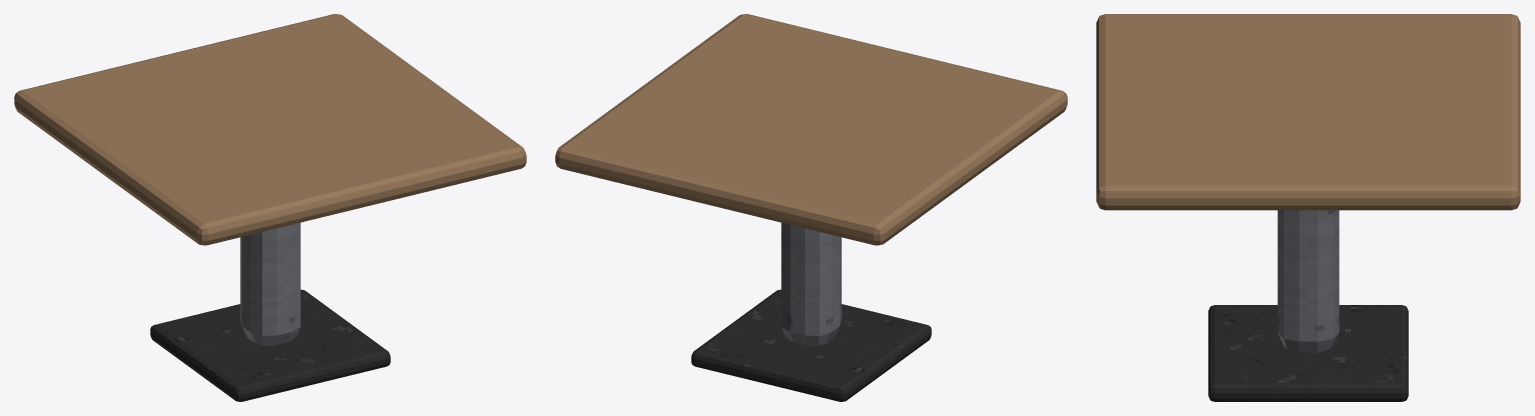
File: decor_svc_dining_table.glb
3 views of the same model, side by side, from view 1: azimuth 30°, elevation 25°; view 2: azimuth 150°, elevation 25°; view 3: azimuth 270°, elevation 25° (orthographic). The views are drawn at different scales.
Visible parts, largest first — view 1: DEC_SvcDiningTable__Top, DEC_SvcDiningTable__Foot, DEC_SvcDiningTable__Pedestal; view 2: DEC_SvcDiningTable__Top, DEC_SvcDiningTable__Foot, DEC_SvcDiningTable__Pedestal; view 3: DEC_SvcDiningTable__Top, DEC_SvcDiningTable__Foot, DEC_SvcDiningTable__Pedestal.
Part boxes in pixels (x1,y1,x2,y2): DEC_SvcDiningTable__Top: (14,14,526,245); DEC_SvcDiningTable__Foot: (150,289,390,401); DEC_SvcDiningTable__Pedestal: (240,222,300,345); DEC_SvcDiningTable__Top: (555,14,1067,245); DEC_SvcDiningTable__Foot: (691,289,931,401); DEC_SvcDiningTable__Pedestal: (781,222,841,345); DEC_SvcDiningTable__Top: (1096,14,1520,210); DEC_SvcDiningTable__Foot: (1208,305,1408,401); DEC_SvcDiningTable__Pedestal: (1277,210,1339,352).
Bounding box in the file's own units: 1.1 × 0.75 × 1.1.
Materials: 4 (2 with a texture image).
